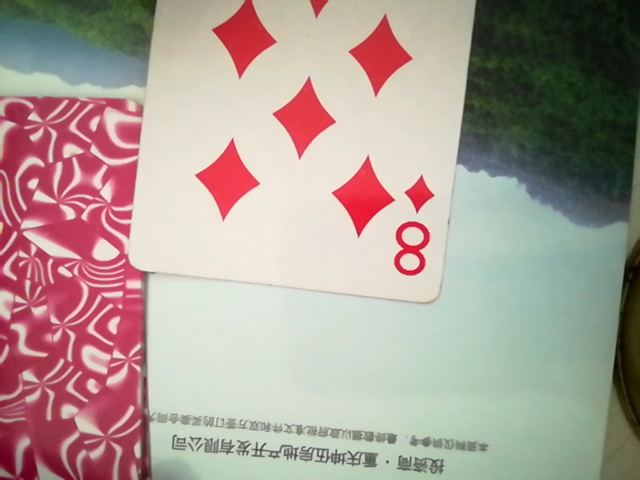fk 8: (124, 0, 481, 305)
